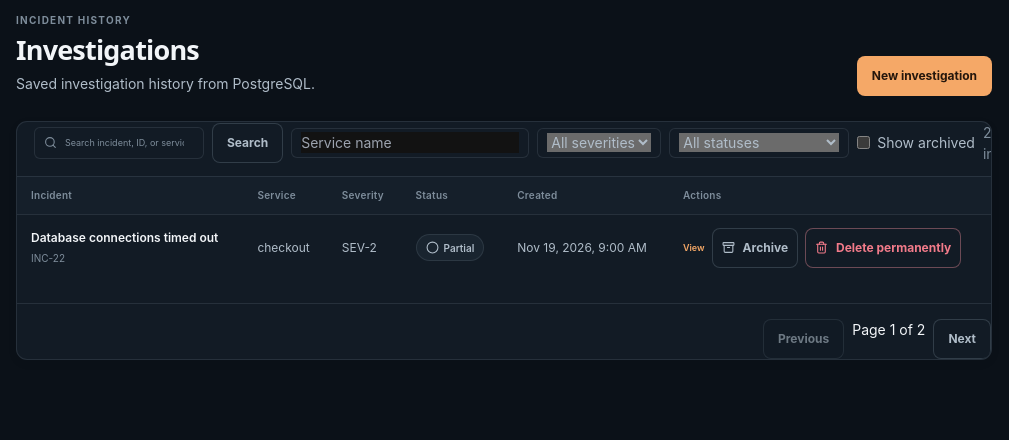
investigation history › archives and restores an investigation with confirmation
expect the link "Database connections timed out" is shown: met, box [31,229,229,247]
Click the button with aria-label "Archive investigation Database connections timed out".
click(755, 248)  # box [712,228,798,268]
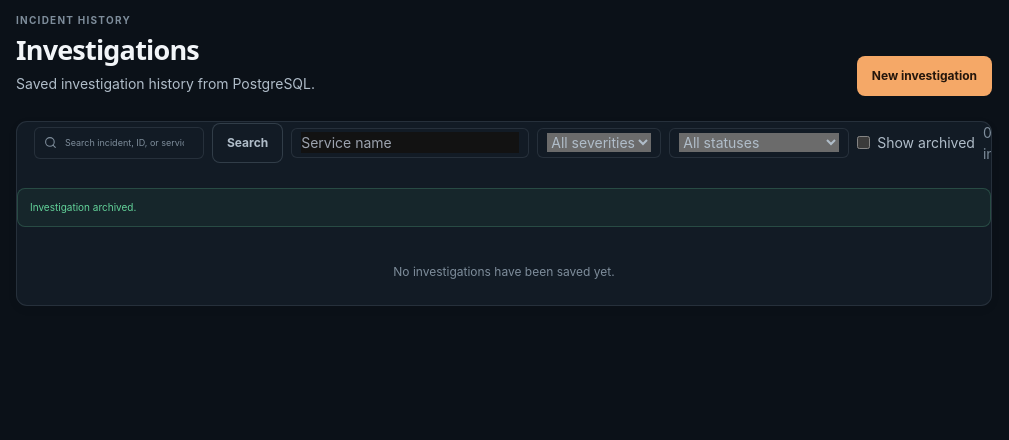
expect the text "Investigation archived." is shown: met, box [17,188,991,227]
expect the text "No investigations have been saved yet." is shown: met, box [393,264,615,279]
Click the checkbox labelled "Show archived".
click(864, 143)  # box [857,136,870,149]
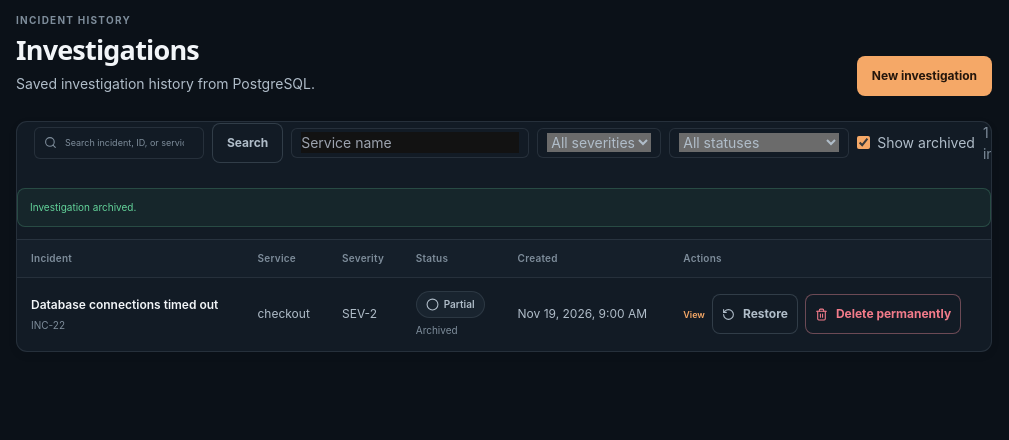
expect the link "Database connections timed out" is shown: met, box [31,296,230,314]
Click the button with aria-label "Restore investigation Database connections timed out".
click(755, 314)  # box [712,294,798,334]
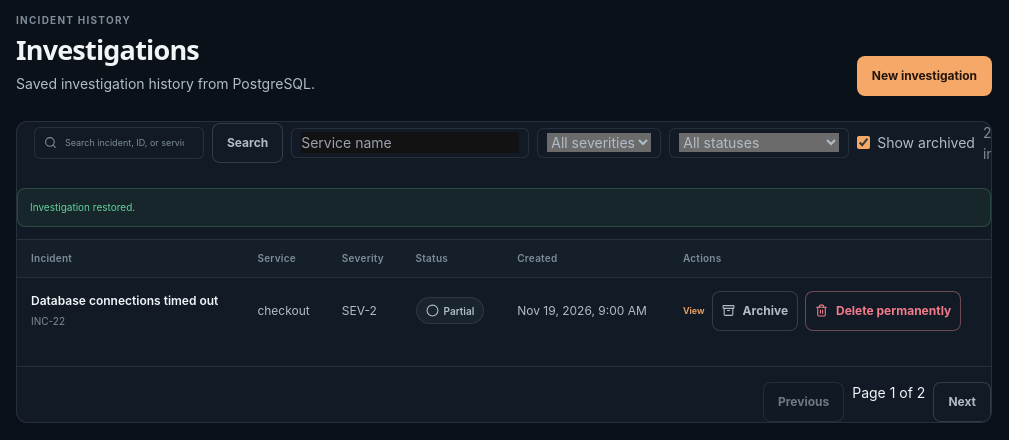
expect the text "Investigation restored." is shown: met, box [17,188,991,227]
